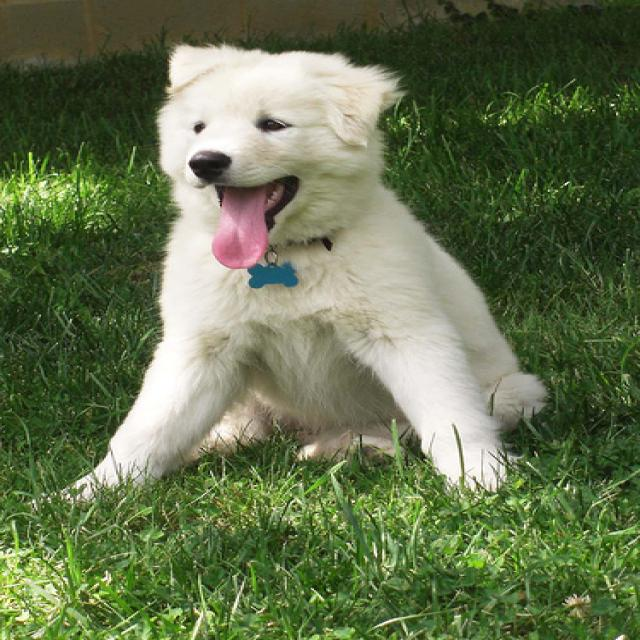dog-samoyed: (51, 41, 548, 508)
